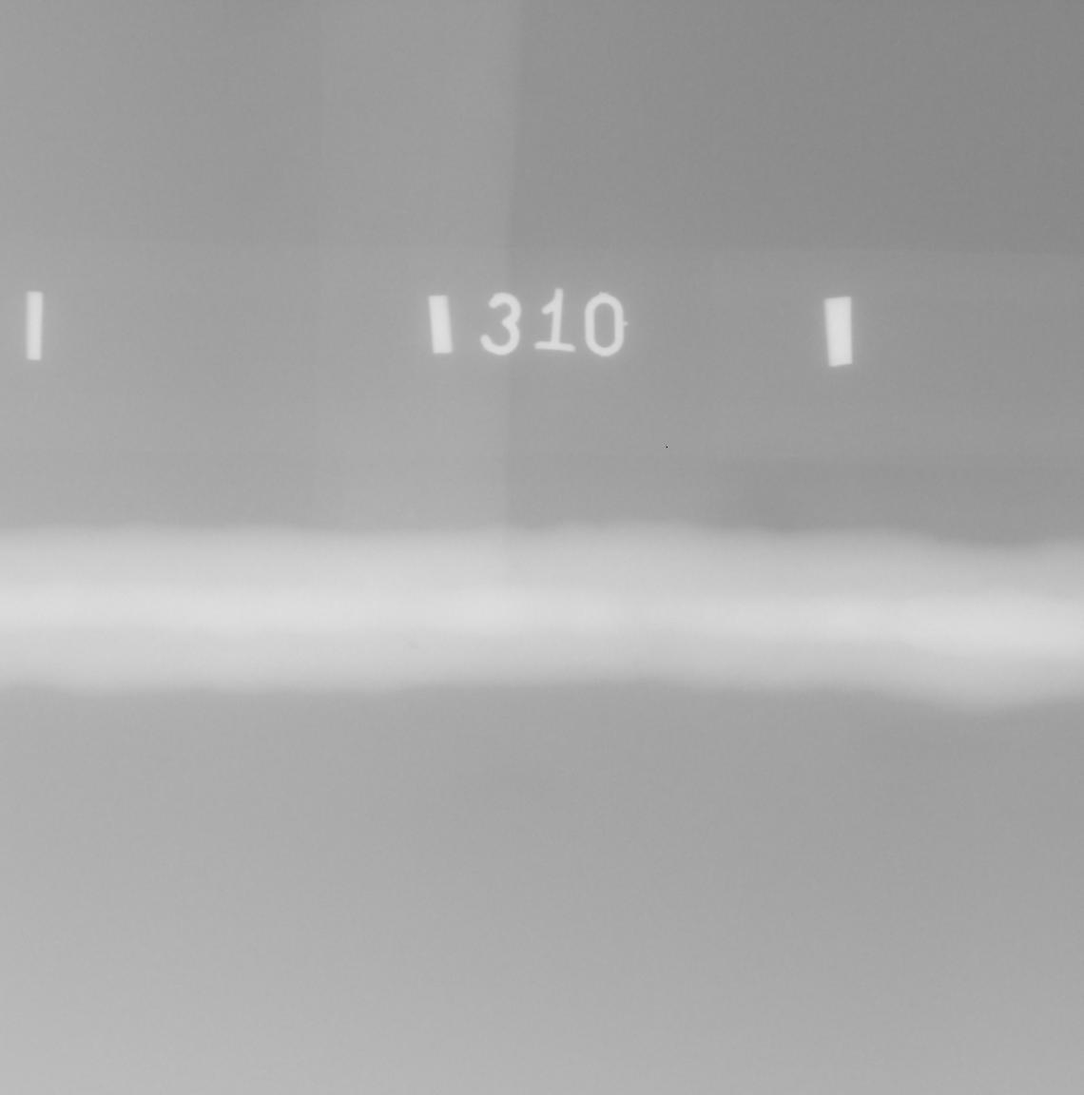Pore/Porosity: (409, 643, 417, 650)
